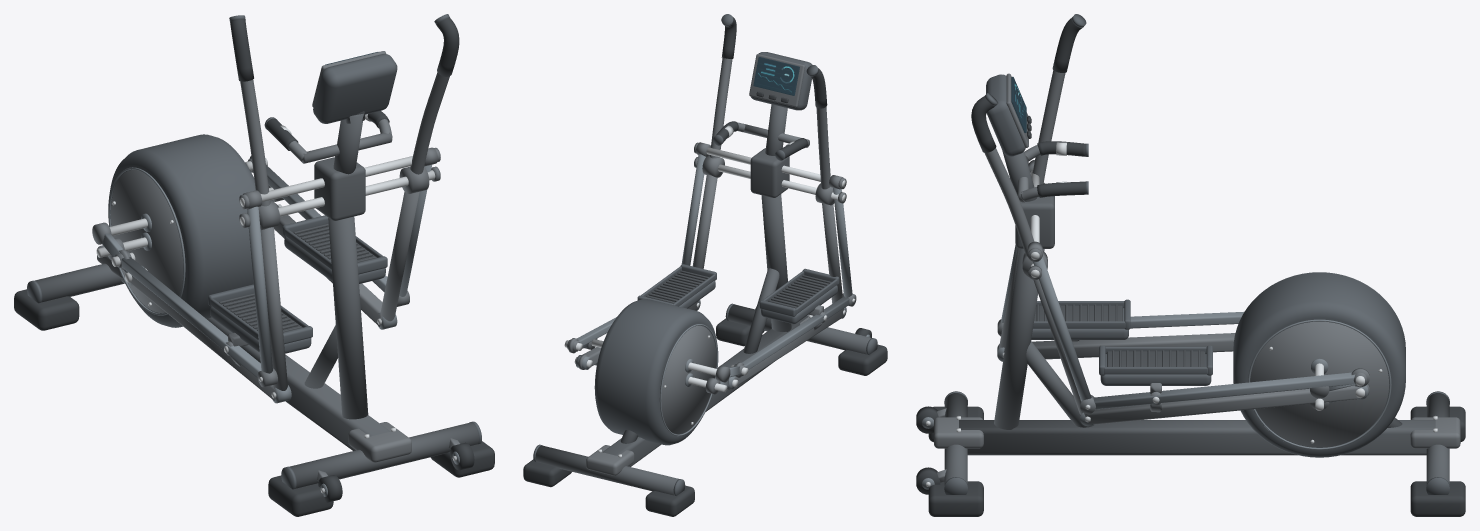
Rendered from elliptical_cross_trainer.glb.
The picture shows the model from 3 angles, left to right: view 1: azimuth 30°, elevation 25°; view 2: azimuth 150°, elevation 25°; view 3: azimuth 270°, elevation 25°; orthographic projection. The views are drawn at different scales.
Visible parts, largest first — view 1: ResistanceHousing_Plastic, MainFrame_Frame, ResistanceHousing_Arm, LeftMovingHandle_Arm, DigitalConsole_Plastic, RightMovingHandle_Arm, FrontStabilizer_Frame, FrontStabilizer_Rubber, LeftLevelingLink_Trim, MainFrame_Chrome, LeftFootPedal_Plastic, RightFootPedal_Plastic (+18 smaller); view 2: ResistanceHousing_Plastic, MainFrame_Frame, ResistanceHousing_Arm, RightMovingHandle_Arm, RearStabilizer_Frame, LeftMovingHandle_Arm, RearStabilizer_Rubber, FrontStabilizer_Rubber, LeftFootPedal_Plastic, FrontStabilizer_Frame, MainFrame_Chrome, DigitalConsole_Screen (+17 smaller); view 3: MainFrame_Frame, ResistanceHousing_Plastic, ResistanceHousing_Arm, RightPedalArm_Arm, RightLevelingLink_Trim, RightFootPedal_Plastic, MainFrame_Arm, RightMovingHandle_Arm, LeftPedalArm_Arm, RearStabilizer_Rubber, LeftFootPedal_Plastic, FrontStabilizer_Rubber (+14 smaller).
Part boxes in pixels (x1,y1,x2,y2): ResistanceHousing_Plastic: (108, 134, 255, 327); MainFrame_Frame: (121, 157, 390, 450); ResistanceHousing_Arm: (110, 169, 185, 312); LeftMovingHandle_Arm: (240, 79, 287, 392); DigitalConsole_Plastic: (313, 54, 397, 123); RightMovingHandle_Arm: (380, 72, 449, 321); FrontStabilizer_Frame: (289, 422, 478, 488); FrontStabilizer_Rubber: (268, 441, 494, 516); LeftLevelingLink_Trim: (121, 257, 261, 377); MainFrame_Chrome: (240, 156, 435, 438); LeftFootPedal_Plastic: (208, 284, 312, 353); RightFootPedal_Plastic: (282, 215, 387, 283); ResistanceHousing_Plastic: (594, 299, 718, 445); MainFrame_Frame: (602, 148, 808, 466); ResistanceHousing_Arm: (659, 325, 716, 434); RightMovingHandle_Arm: (692, 58, 732, 302); RearStabilizer_Frame: (535, 445, 678, 495); LeftMovingHandle_Arm: (815, 107, 842, 303); RearStabilizer_Rubber: (523, 459, 694, 516); FrontStabilizer_Rubber: (716, 318, 887, 375); LeftFootPedal_Plastic: (759, 268, 839, 324); FrontStabilizer_Frame: (728, 304, 871, 354); MainFrame_Chrome: (598, 147, 845, 457); DigitalConsole_Screen: (753, 57, 799, 95); MainFrame_Frame: (959, 196, 1435, 455); ResistanceHousing_Plastic: (1233, 272, 1405, 457); ResistanceHousing_Arm: (1250, 321, 1389, 447); RightPedalArm_Arm: (1087, 385, 1359, 424); RightLevelingLink_Trim: (1093, 372, 1354, 409); RightFootPedal_Plastic: (1099, 345, 1212, 385); MainFrame_Arm: (934, 160, 1460, 448); RightMovingHandle_Arm: (984, 148, 1087, 416); LeftPedalArm_Arm: (1032, 333, 1235, 359); RearStabilizer_Rubber: (1410, 406, 1465, 516); LeftFootPedal_Plastic: (1031, 299, 1130, 339); FrontStabilizer_Rubber: (928, 406, 983, 516).
Size of the model in its own units: 0.84 by 1.76 by 2.09.
9 materials, 1 textured.
